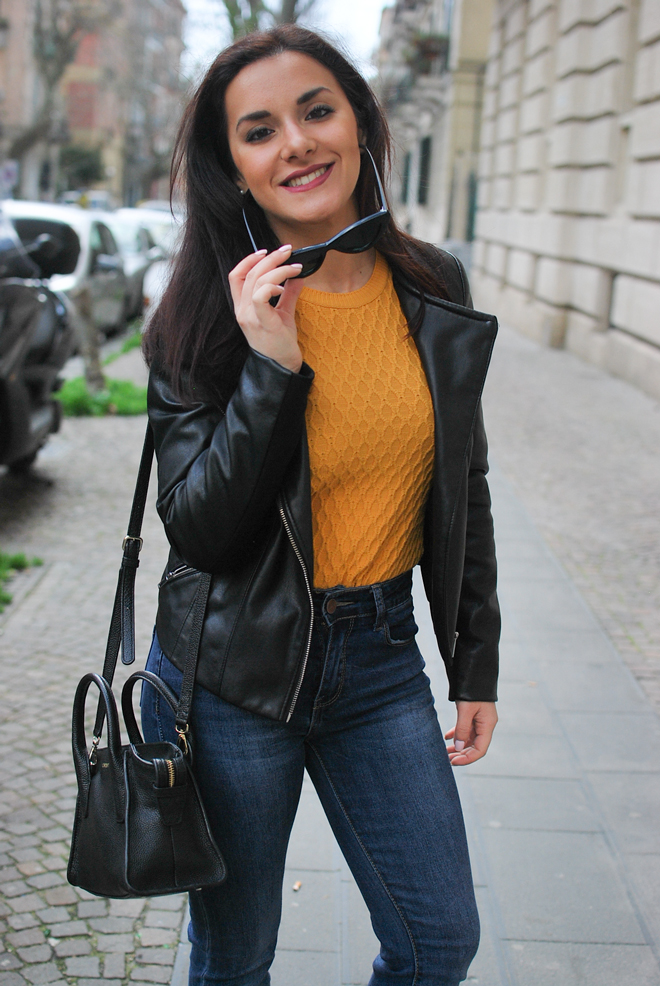jeans: (143, 577, 493, 976)
sunglasses: (218, 206, 399, 266)
